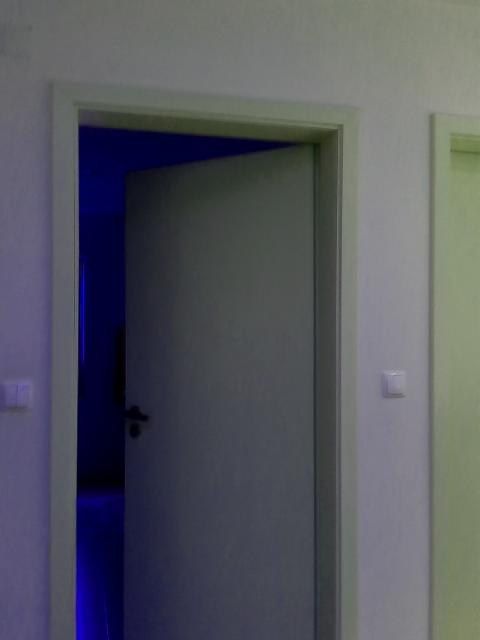semi_door: (48, 77, 364, 639)
